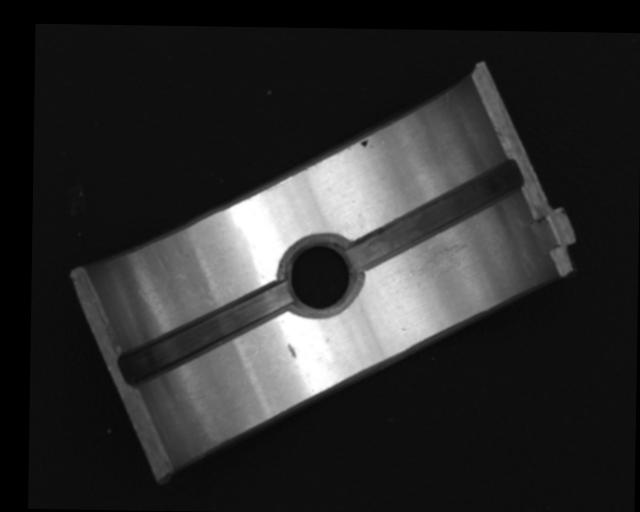blot: (359, 137, 371, 148)
bruise: (286, 343, 296, 359)
gap: (119, 279, 291, 389), (350, 163, 520, 272)
hole: (283, 236, 359, 321)
scratch: (406, 219, 480, 291)
